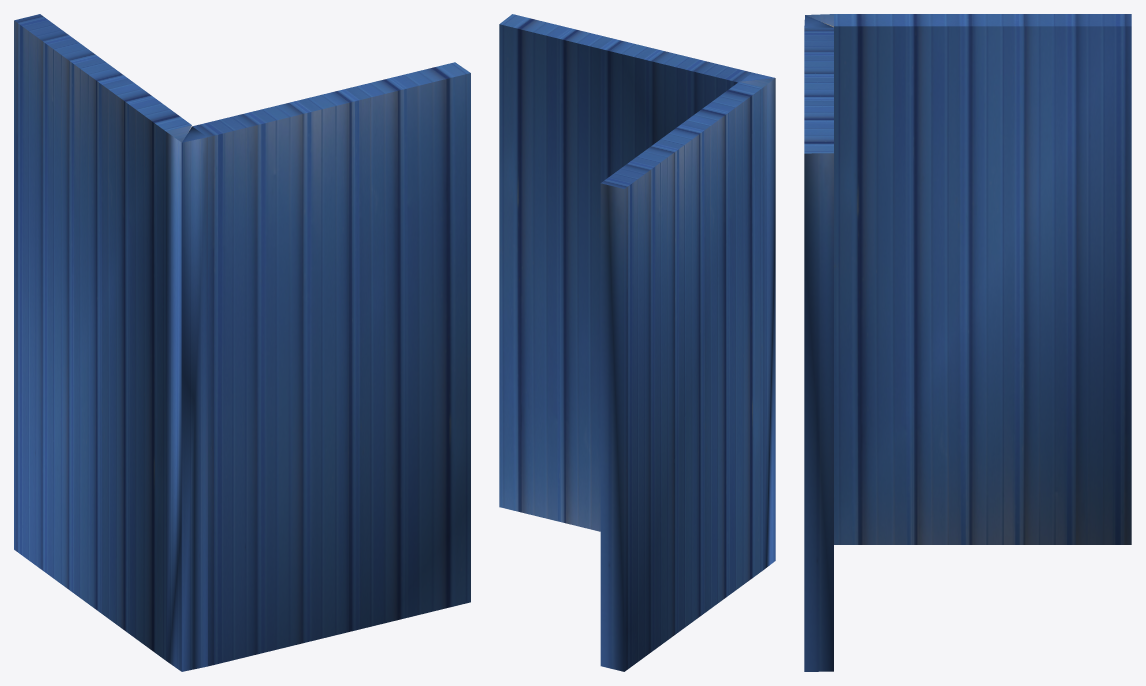
The model's file is köşe dış duvarları.fbx.
The picture shows the model from 3 angles, left to right: view 1: azimuth 30°, elevation 25°; view 2: azimuth 150°, elevation 25°; view 3: azimuth 270°, elevation 25°; orthographic projection. The views are drawn at different scales.
Visible parts, largest first — view 1: Plane.002, Plane.001; view 2: Plane.001, Plane.002; view 3: Plane.001, Plane.002.
Part boxes in pixels (x1,y1,x2,y2): Plane.002: [181, 62, 470, 671]; Plane.001: [14, 14, 191, 671]; Plane.001: [600, 78, 775, 671]; Plane.002: [499, 14, 774, 531]; Plane.001: [805, 14, 1131, 544]; Plane.002: [804, 15, 833, 671].
Size of the model in its own units: 111 by 194 by 111.
Materials: 1 (1 with a texture image).
